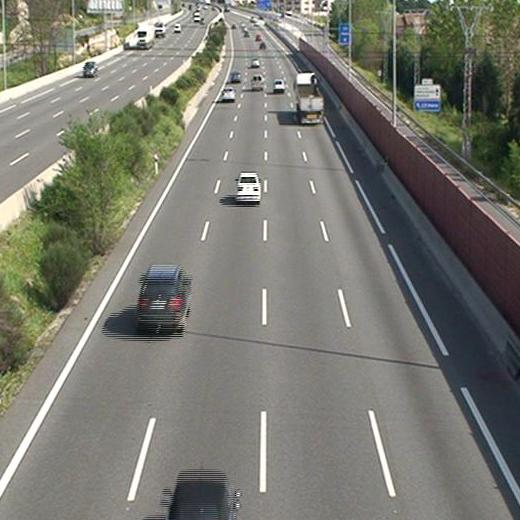car: (136, 265, 190, 329), (234, 172, 261, 201), (221, 87, 234, 100), (273, 79, 284, 92), (229, 71, 239, 82), (250, 57, 258, 66)
truck: (294, 72, 323, 124)
van: (250, 74, 265, 90)
